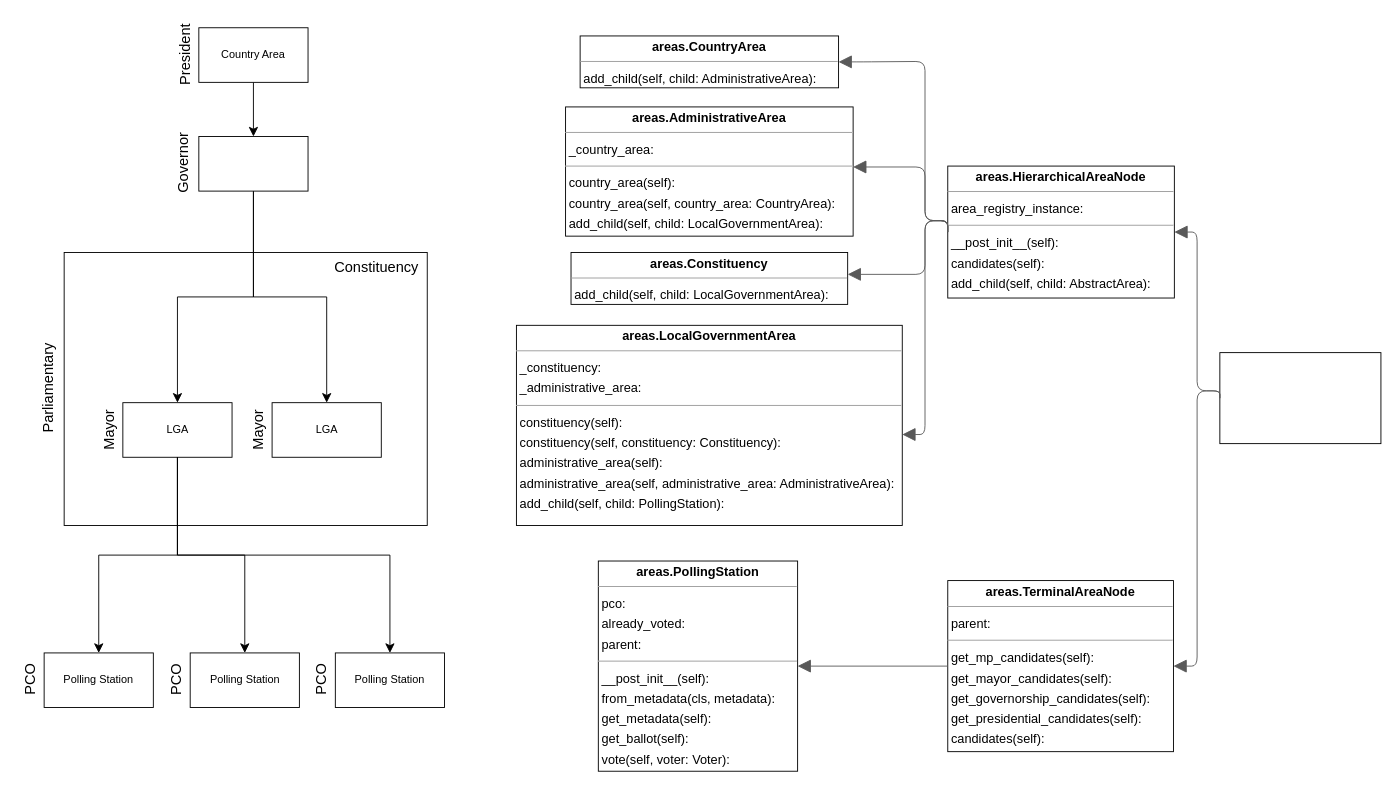
This 1397x787 diagram has some shape labels left out. Each missing label, with the centre of its shape:
"AA" goes at [253,163].
"areas.AbstractArea name: candidates(self):" goes at [1300,398].
